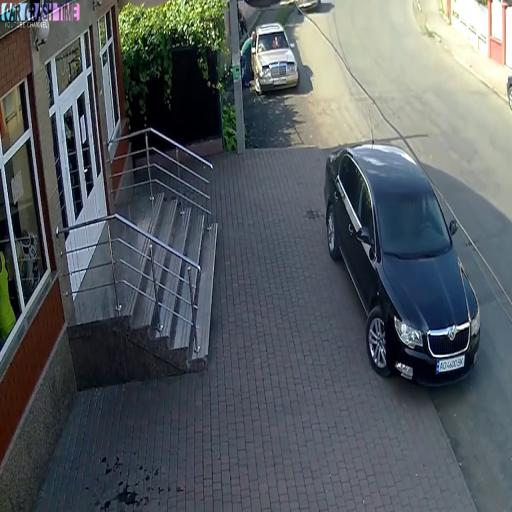小汽车: (330, 144, 479, 378), (254, 23, 295, 89)
